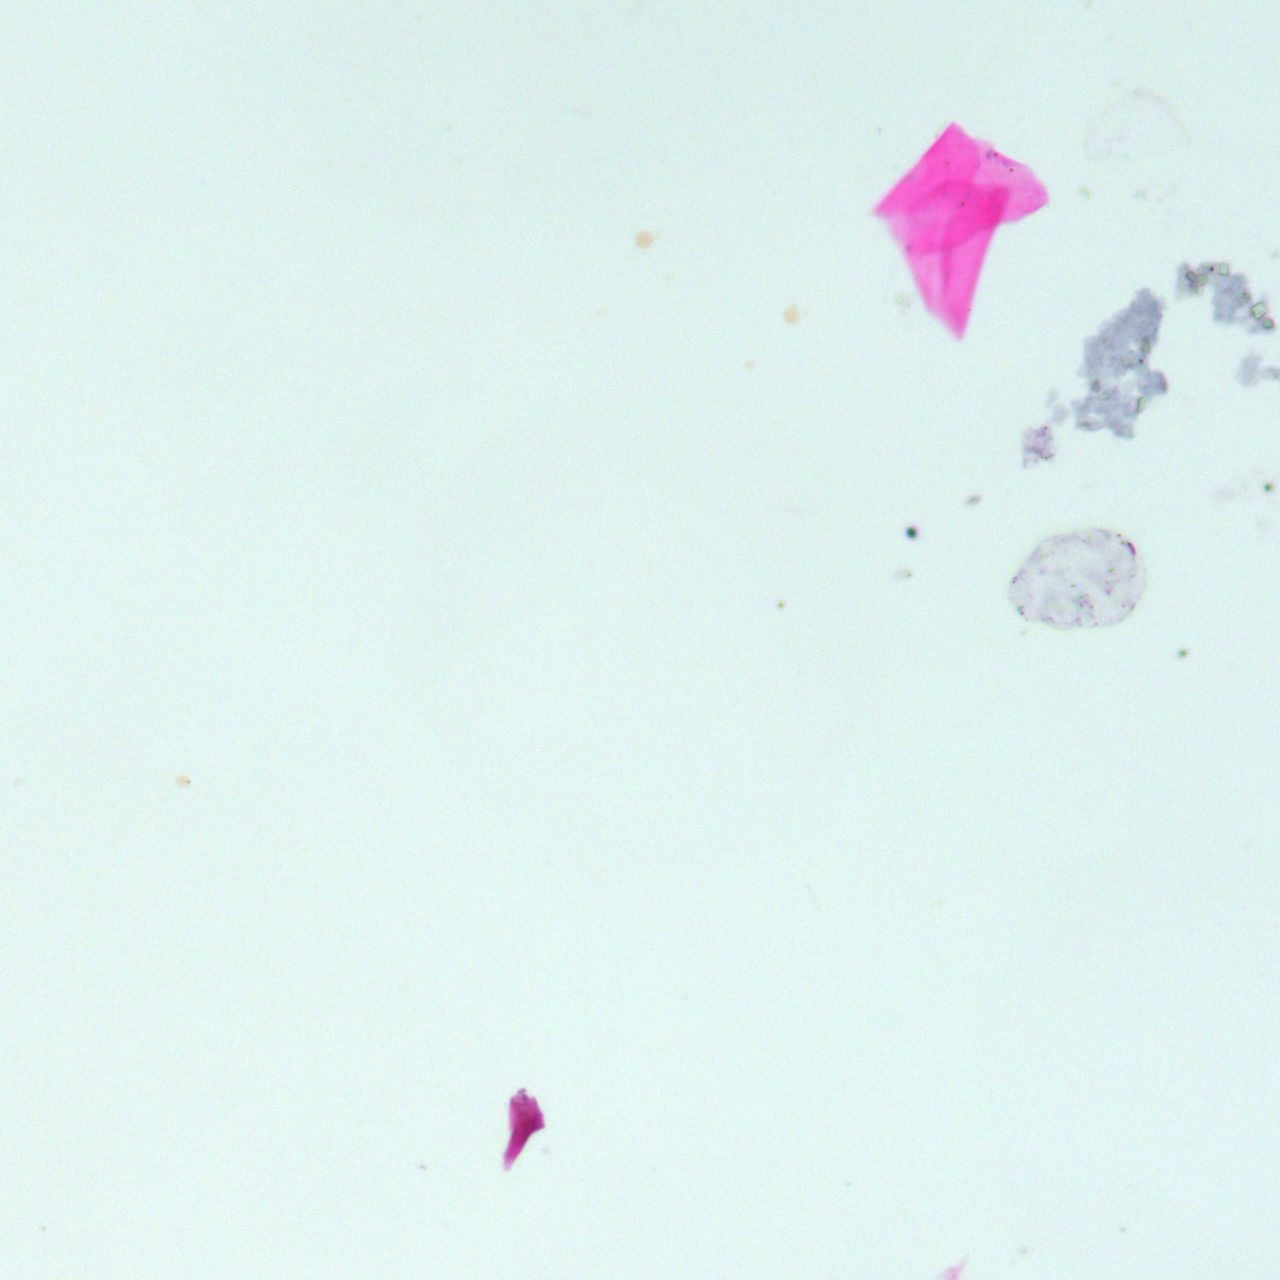dust: (784, 305, 801, 325), (635, 230, 652, 245), (1262, 481, 1274, 493), (1177, 647, 1187, 658), (178, 775, 190, 784), (906, 526, 915, 536), (745, 360, 753, 370)
